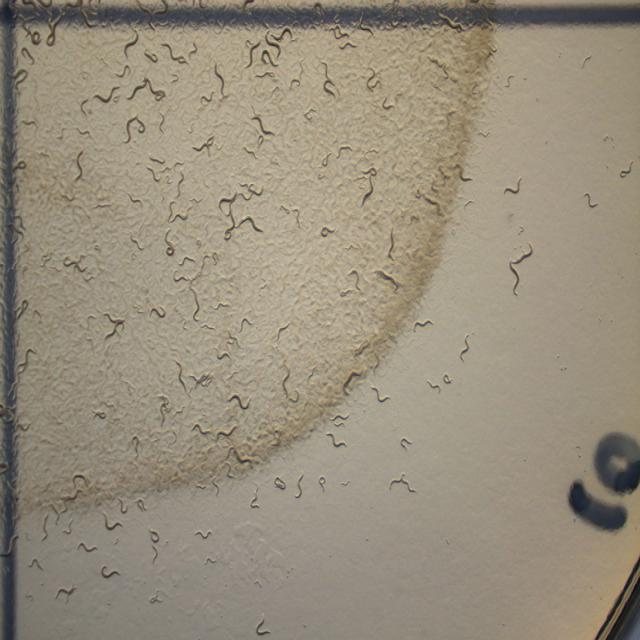filarid: (220, 189, 262, 240), (509, 242, 532, 295), (389, 472, 418, 493), (390, 474, 416, 492), (176, 360, 189, 394), (190, 287, 200, 320), (459, 334, 470, 362), (504, 177, 521, 194), (326, 432, 345, 447), (256, 616, 269, 634), (295, 472, 303, 499), (274, 475, 286, 490), (318, 475, 328, 492), (428, 381, 441, 393), (251, 487, 259, 506), (150, 307, 165, 317), (400, 437, 411, 450), (442, 372, 451, 385), (585, 194, 594, 206), (419, 319, 431, 327), (174, 274, 189, 280), (212, 252, 218, 263), (341, 479, 350, 486), (204, 324, 215, 329), (169, 244, 174, 254)
